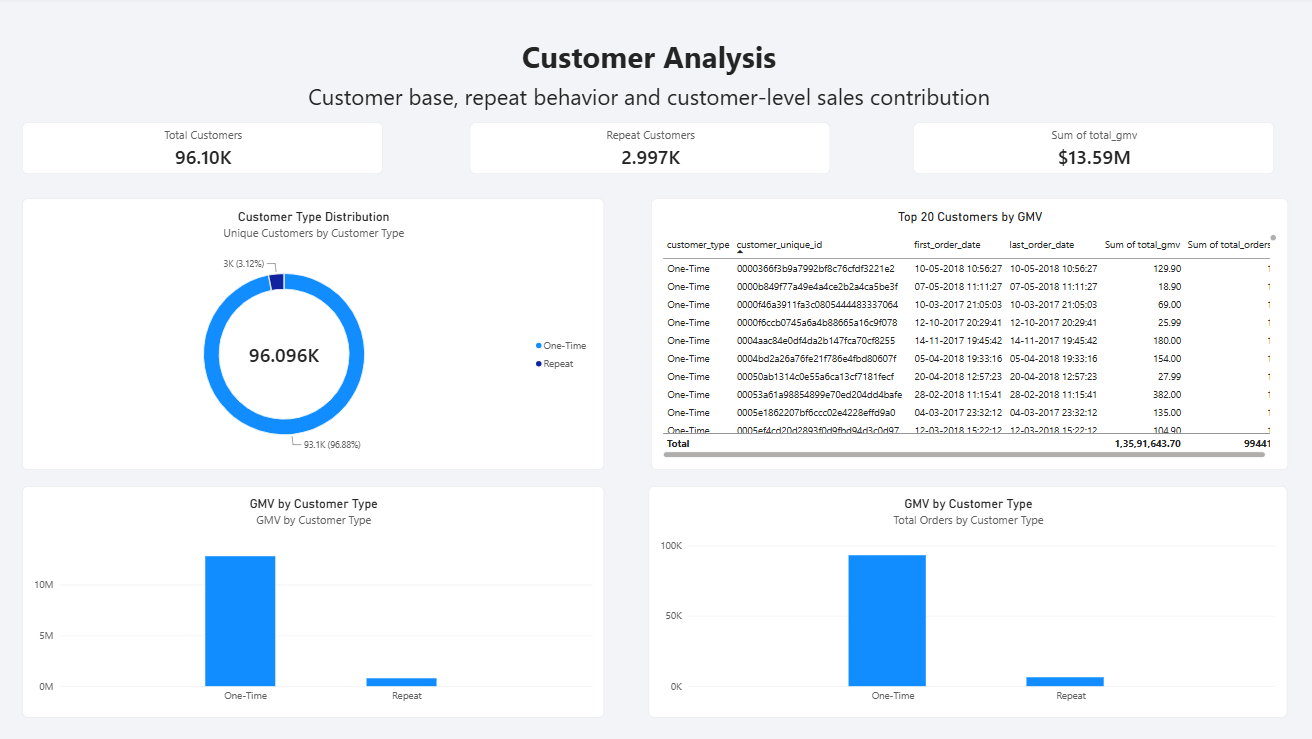

The dashboard page shown, as its layout file describes it:
{"tool":"powerbi","page":{"name":"Customer Analysis","canvas":[1920,1080],"ordinal":3},"visuals":[{"type":"textbox","box":[0,122.5,1920,60],"z":0},{"type":"textbox","box":[0,57.5,1920,65],"z":1000},{"type":"cardVisual","fields":{"Data":["Count(Customer Analysis.customer_unique_id)"]},"box":[52.5,182.5,522.5,75],"z":2000},{"type":"cardVisual","fields":{"Data":["Count(Customer Analysis.customer_unique_id)"]},"box":[700,182.5,522.5,75],"z":3000},{"type":"cardVisual","fields":{"Data":["Sum(Customer Analysis.total_gmv)"]},"box":[1342.5,182.5,522.5,75],"z":4000},{"type":"donutChart","title":"Customer Type Distribution","fields":{"Category":["Customer Analysis.customer_type"],"Y":["Count(Customer Analysis.customer_unique_id)"]},"box":[52.5,292.5,842.5,392.5],"z":5000},{"type":"clusteredColumnChart","title":"GMV by Customer Type","fields":{"Y":["Sum(Customer Analysis.total_gmv)"],"Category":["Customer Analysis.customer_type"]},"box":[52.5,710,842.5,335],"z":6000},{"type":"clusteredColumnChart","title":"GMV by Customer Type","fields":{"Category":["Customer Analysis.customer_type"],"Y":["Sum(Customer Analysis.total_orders)"]},"box":[960,710,925,335],"z":7000},{"type":"tableEx","title":"Top 20 Customers by GMV","fields":{"Values":["Customer Analysis.customer_type","Customer Analysis.customer_unique_id","Customer Analysis.first_order_date","Customer Analysis.last_order_date","Sum(Customer Analysis.total_gmv)","Sum(Customer Analysis.total_orders)"]},"box":[962.5,292.5,922.5,392.5],"z":7001}]}

Visuals, with their boxes in screenshot pixels (x1, y1, x2, y2), scaled from the page's 1920x1080 canvas onto the 1312x739 screenshot:
textbox: pyautogui.locateOnScreen(0, 84, 1311, 125)
textbox: pyautogui.locateOnScreen(0, 39, 1311, 84)
cardVisual - Count(Customer Analysis.customer_unique_id): pyautogui.locateOnScreen(36, 125, 393, 176)
cardVisual - Count(Customer Analysis.customer_unique_id): pyautogui.locateOnScreen(478, 125, 835, 176)
cardVisual - Sum(Customer Analysis.total_gmv): pyautogui.locateOnScreen(917, 125, 1274, 176)
"Customer Type Distribution" donutChart: pyautogui.locateOnScreen(36, 200, 612, 469)
"GMV by Customer Type" clusteredColumnChart: pyautogui.locateOnScreen(36, 486, 612, 715)
"GMV by Customer Type" clusteredColumnChart: pyautogui.locateOnScreen(656, 486, 1288, 715)
"Top 20 Customers by GMV" tableEx: pyautogui.locateOnScreen(658, 200, 1288, 469)
